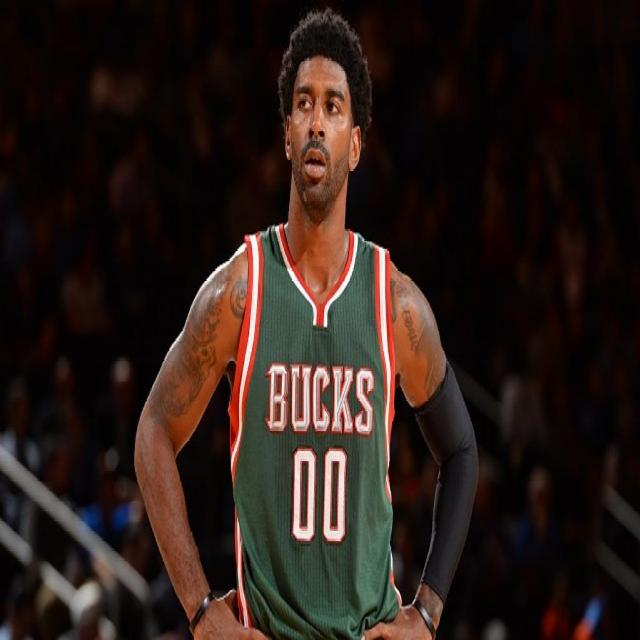nomask: (289, 57, 346, 206)
